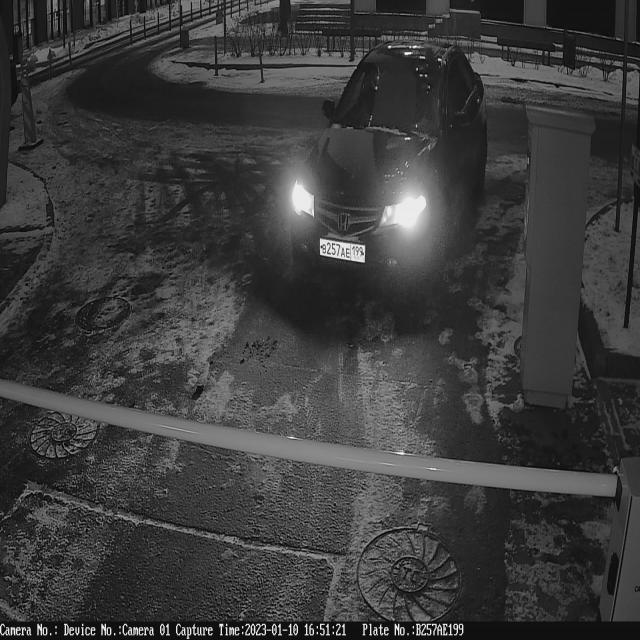car-plate-numbers: (318, 232, 371, 271)
